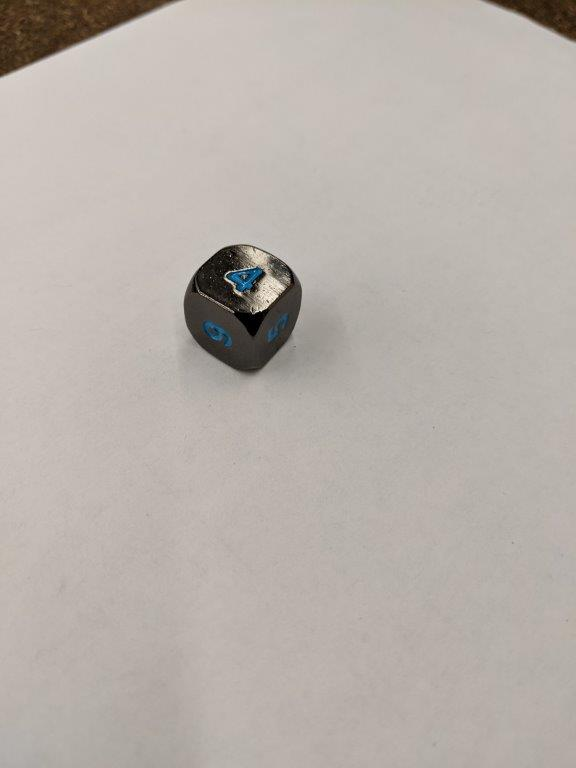d6-4: (183, 244, 303, 373)
